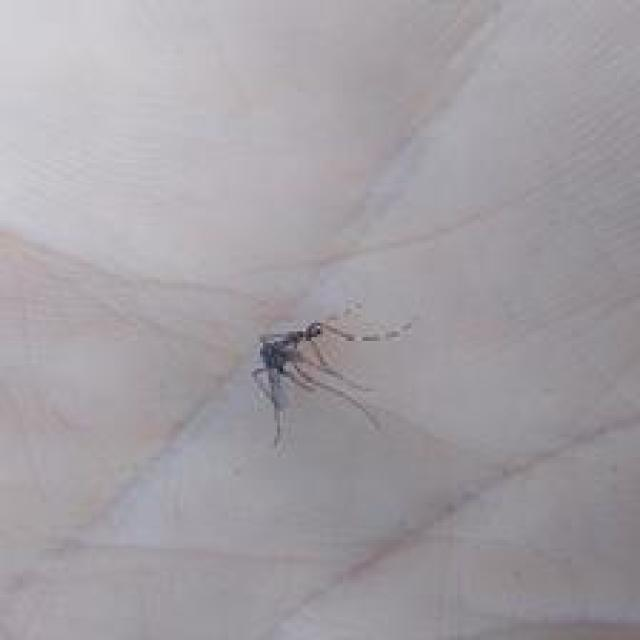Aedes albopictus: (250, 303, 413, 448)
